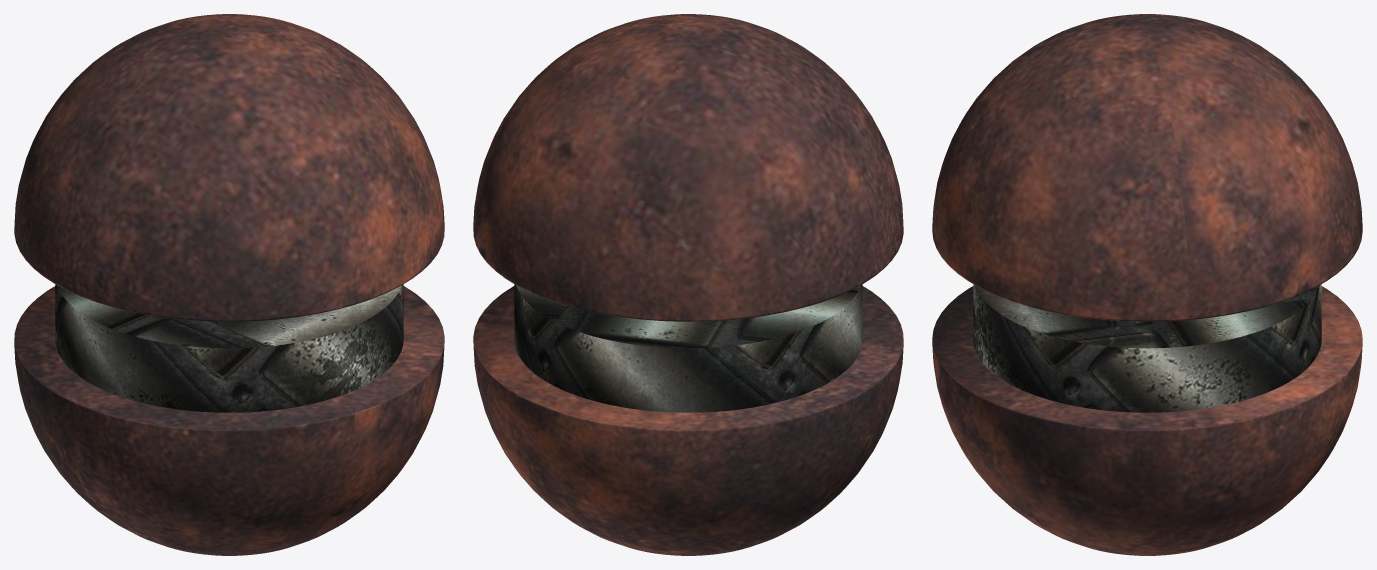
Rendered from droid_anim_000023.obj.
3 renders of one model, left to right at view 1: azimuth 30°, elevation 25°; view 2: azimuth 150°, elevation 25°; view 3: azimuth 270°, elevation 25°, orthographic.
Visible parts, largest first — view 1: Sphere.004, Sphere.005, Cylinder.002; view 2: Sphere.004, Sphere.005, Cylinder.002; view 3: Sphere.004, Sphere.005, Cylinder.002.
Boxes of the visible parts, x1,y1,x2,y2 form: Sphere.004: [14, 14, 444, 321]; Sphere.005: [14, 286, 444, 555]; Cylinder.002: [55, 284, 403, 412]; Sphere.004: [473, 14, 903, 321]; Sphere.005: [473, 286, 903, 555]; Cylinder.002: [514, 284, 862, 412]; Sphere.004: [932, 14, 1362, 321]; Sphere.005: [932, 286, 1362, 555]; Cylinder.002: [973, 284, 1321, 412].
Size of the model in its own units: 2 by 2.57 by 2.
3 materials, 3 textured.
